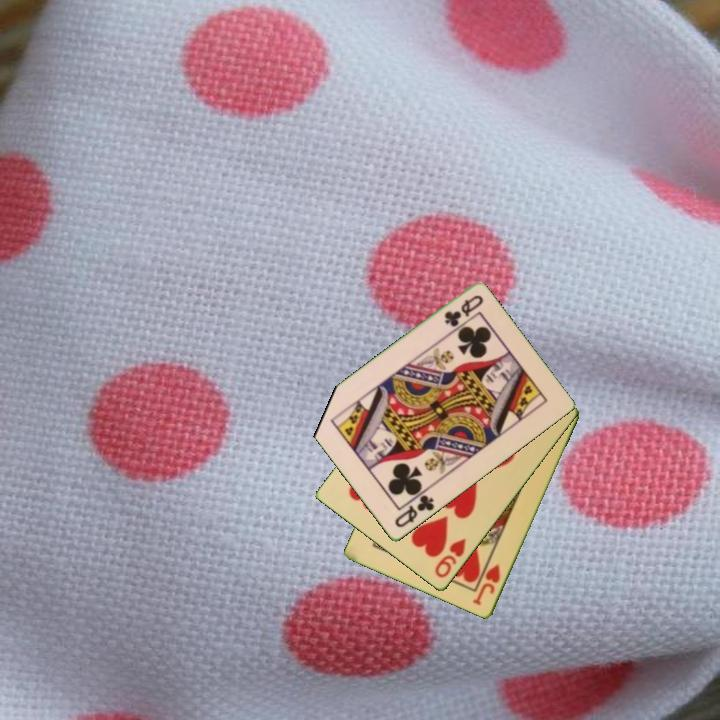9h: (431, 535, 469, 581)
Jh: (469, 561, 504, 609)
Qc: (391, 487, 437, 531), (441, 292, 486, 330)
